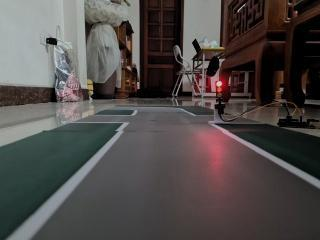red: (211, 75, 230, 111)
